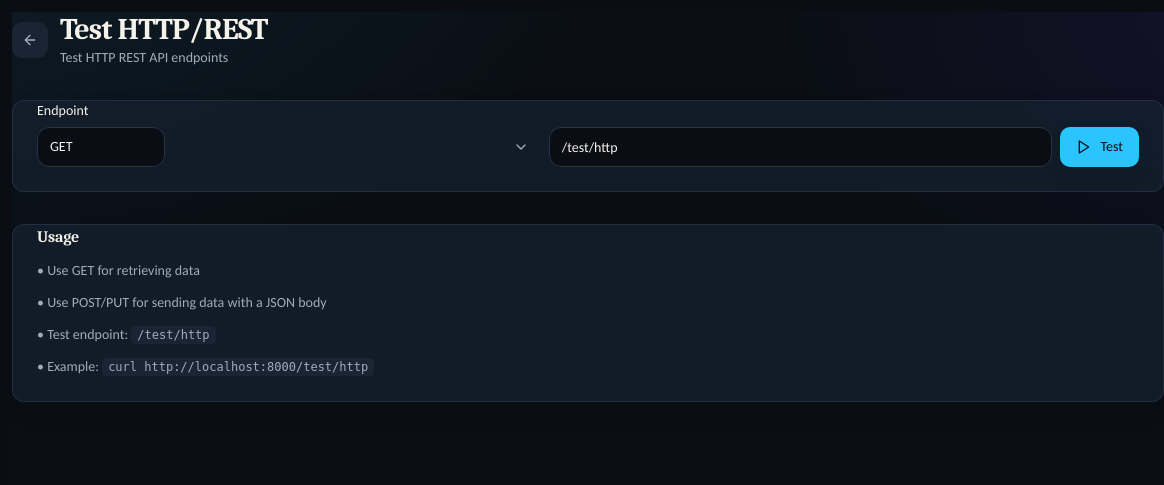
ProtocolTest page › http › shows the server error detail, then the message, on failure
What coordinates should you click on to do the following:
click the button "Test"
I would click on:
 (1100, 147)
Its box is x1=1060 y1=127 x2=1139 y2=167.
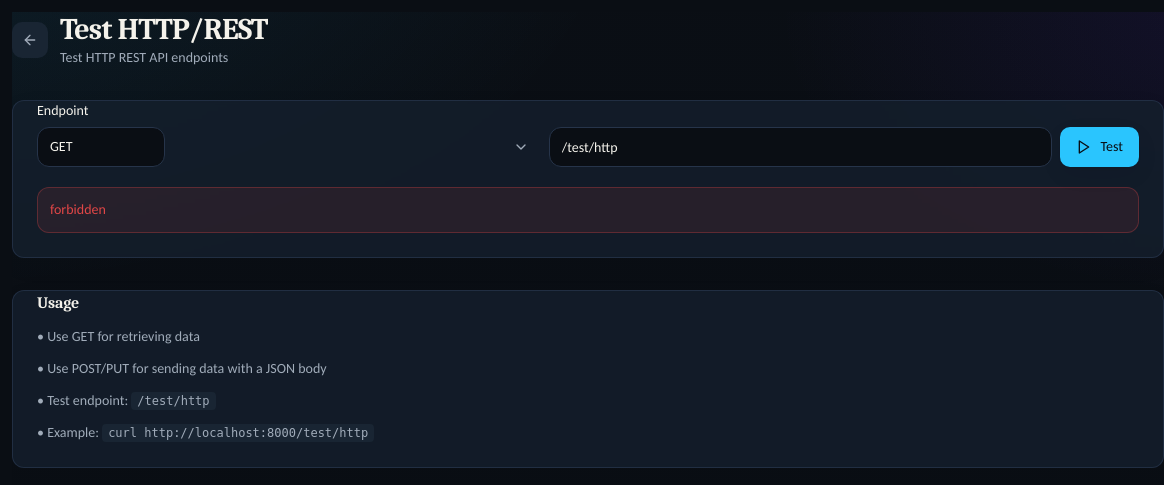
Expected: the text "forbidden" is shown, x1=37 y1=187 x2=1139 y2=233
What coordinates should you click on to do the following:
click the button "Test"
I would click on:
 (1100, 147)
Its box is x1=1060 y1=127 x2=1139 y2=167.
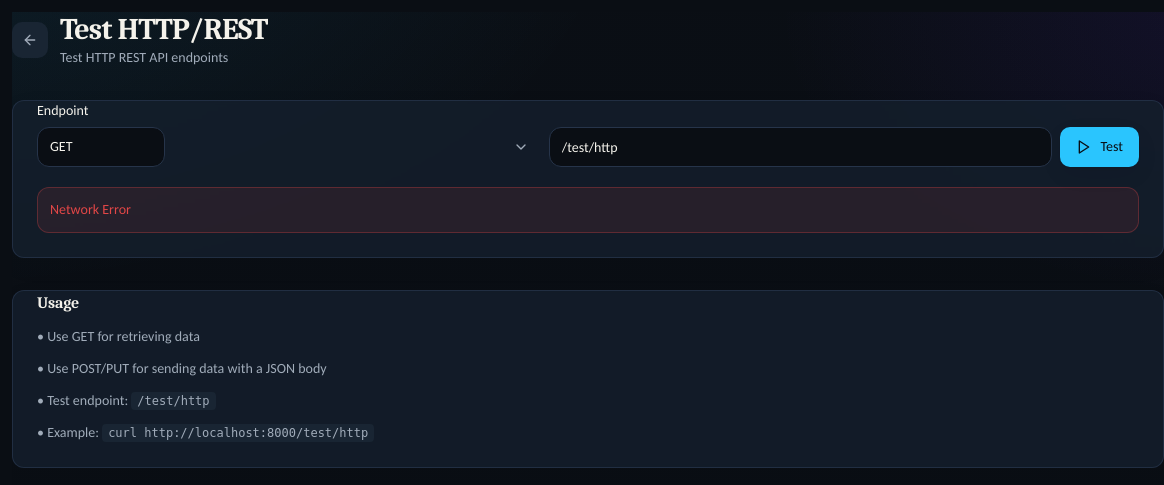
Expected: the text "Network Error" is shown, x1=37 y1=187 x2=1139 y2=233
